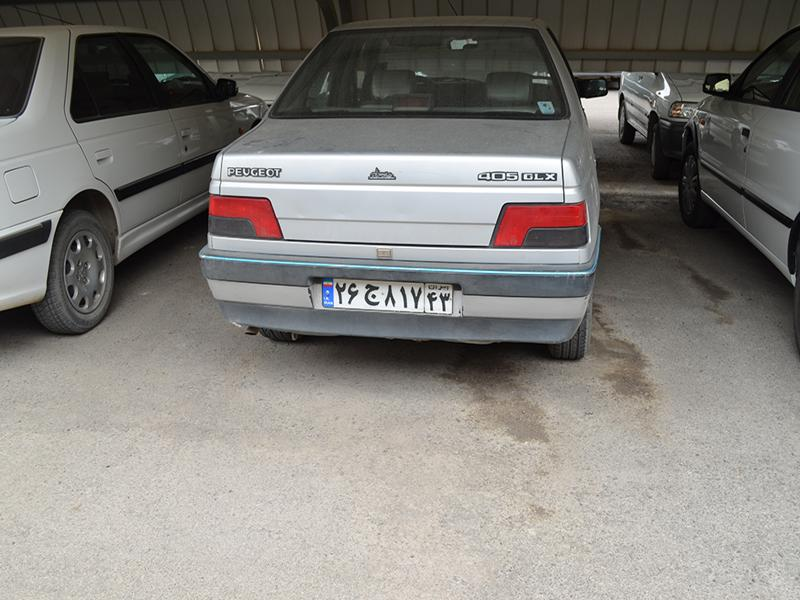Plate: (320, 269, 457, 316)
